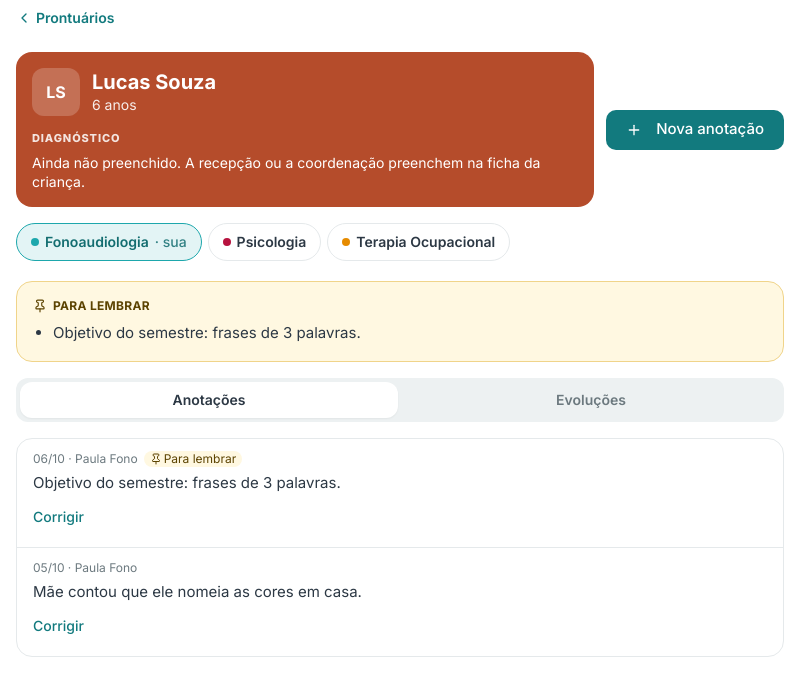
na terapia de outro, o terapeuta lê mas não escreve
Check: the heading "Lucas Souza" is shown, box [92,70,216,94]
Step 1. Click the button "Terapia Ocupacional" → [419, 242], box [327,223,510,261]
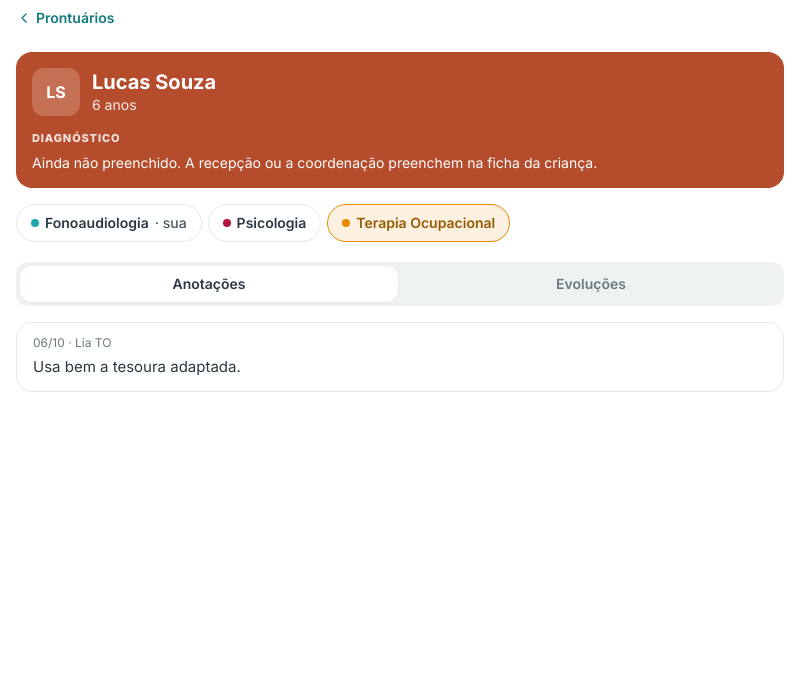
Check: the text "Usa bem a tesoura adaptada." is shown, box [33,357,241,376]
Check: the button "Nova anotação" is gone
Check: the button "Corrigir" is gone
